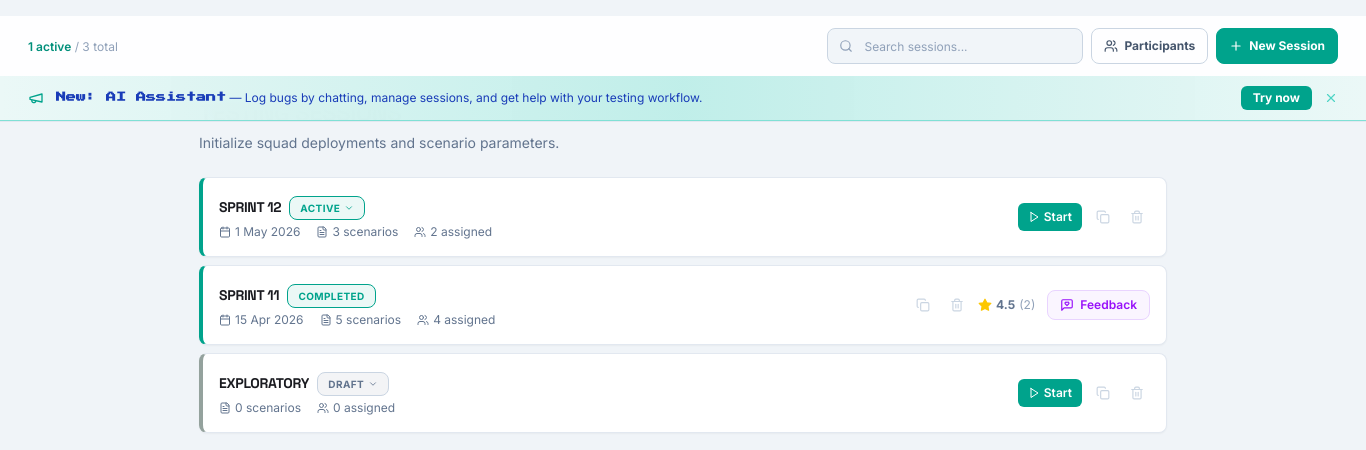
Test case: SessionsListPage › search filters sessions by status
The image size is (1366, 450).
Type "draft" into the field with placeholder "Search sessions...".
click(956, 46); type("draft")  # box [828,28,1084,64]
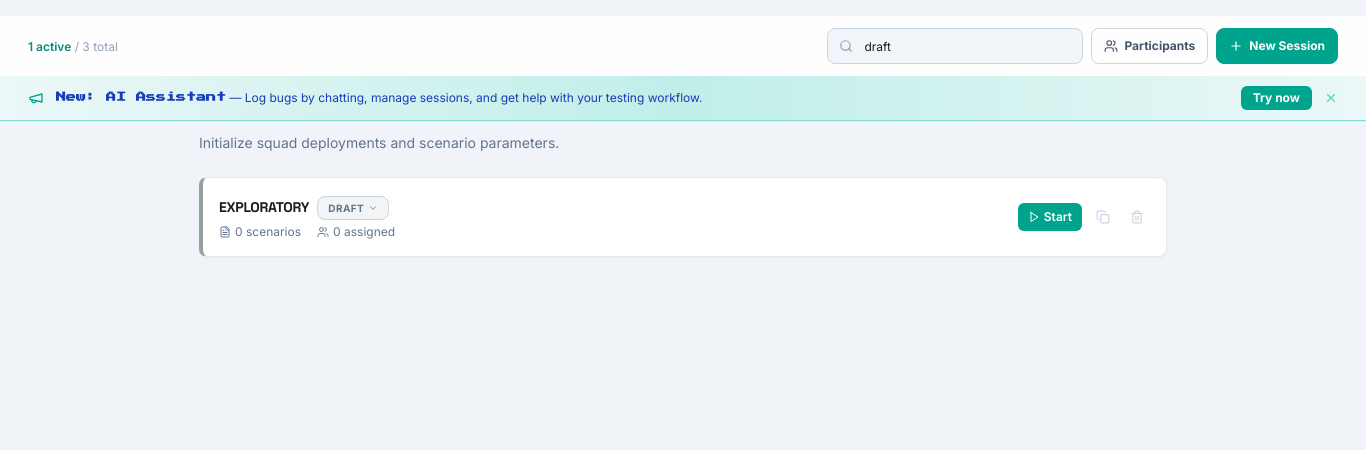
Expected: the heading "Exploratory" is shown, [219,197,309,217]
Expected: the link "Sprint 12" is gone
